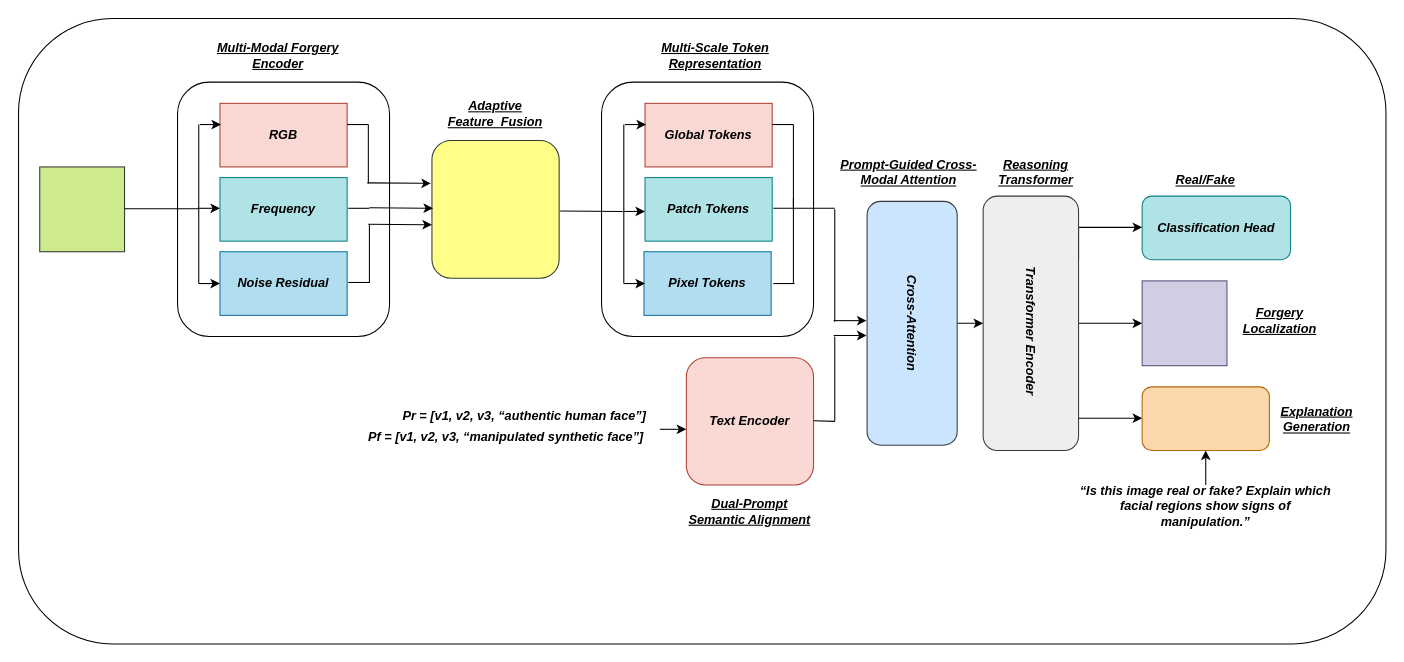
This 1404x662 diagram has some shape labels left out. Here are the shapes that lost their labels. From the top down, the box of each, then its label:
(39, 166, 125, 252): Image I
(431, 139, 559, 278): Gating Network
(1141, 280, 1227, 366): Heatmap
(1141, 386, 1269, 450): LLM
